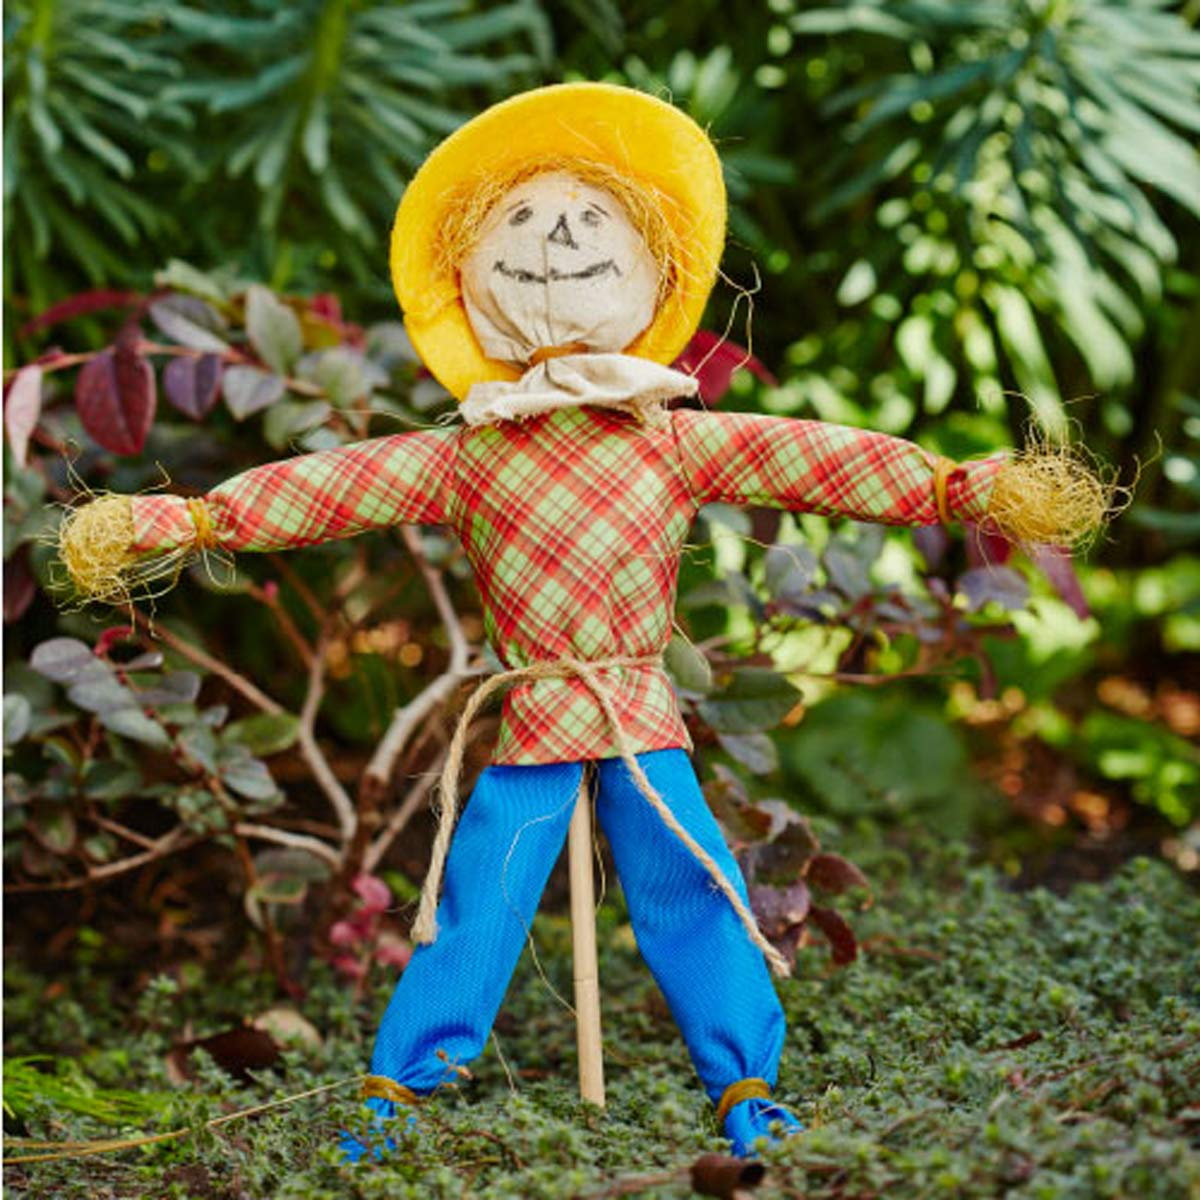person-like: (50, 75, 1137, 1161)
